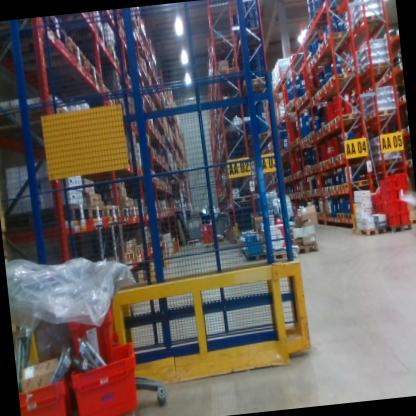pallet: (15, 30, 90, 86), (6, 197, 93, 235), (0, 14, 70, 61), (39, 58, 106, 98), (123, 155, 142, 259), (217, 124, 273, 154), (77, 21, 112, 58), (211, 59, 240, 91), (237, 71, 271, 97), (271, 239, 300, 269), (208, 30, 239, 58), (100, 35, 121, 76), (319, 25, 351, 50), (352, 13, 386, 35), (331, 109, 363, 132), (361, 56, 394, 78), (225, 189, 265, 207), (340, 173, 374, 194), (235, 22, 261, 49), (326, 70, 358, 90), (108, 248, 135, 271), (393, 59, 406, 106), (240, 249, 273, 267), (319, 79, 351, 96), (308, 48, 341, 64), (373, 153, 404, 170), (365, 105, 395, 122), (296, 238, 322, 257), (379, 217, 412, 231), (359, 220, 386, 237), (313, 42, 343, 57), (311, 4, 336, 22), (305, 57, 332, 72), (304, 18, 335, 31), (102, 201, 122, 221), (86, 203, 105, 223), (133, 198, 149, 220), (199, 239, 221, 254), (183, 235, 203, 250), (125, 197, 138, 220), (211, 231, 229, 247), (276, 75, 294, 89), (119, 201, 132, 219), (397, 158, 412, 173), (132, 275, 148, 288), (287, 139, 301, 153), (298, 163, 309, 178), (331, 180, 342, 194), (131, 268, 145, 279), (312, 87, 322, 102), (322, 154, 332, 168), (308, 93, 317, 108), (282, 98, 292, 111), (336, 152, 349, 162), (318, 122, 326, 138), (324, 119, 333, 133), (398, 127, 409, 138), (303, 86, 311, 101), (343, 211, 355, 221), (319, 184, 329, 195), (328, 154, 338, 165), (326, 181, 334, 194), (335, 209, 345, 219), (305, 163, 313, 175), (146, 238, 154, 250), (292, 94, 301, 104), (408, 215, 416, 226), (313, 129, 320, 141), (311, 163, 320, 172), (282, 143, 290, 153), (390, 50, 400, 58), (299, 92, 305, 105), (309, 134, 317, 143), (323, 210, 331, 219), (314, 186, 323, 194), (393, 57, 401, 66), (308, 128, 315, 138), (299, 135, 306, 145), (299, 140, 306, 150), (293, 101, 300, 111), (317, 209, 324, 219), (287, 100, 293, 111), (330, 210, 337, 219), (293, 170, 300, 179), (299, 186, 306, 195), (318, 160, 324, 170), (282, 108, 289, 116), (305, 138, 311, 147), (291, 98, 297, 107), (304, 133, 310, 141), (295, 135, 301, 143), (309, 187, 316, 193), (279, 147, 285, 154), (305, 186, 309, 195), (297, 187, 301, 195), (295, 190, 298, 196)
small_load_carrier: (66, 339, 149, 416), (57, 287, 117, 359), (17, 363, 80, 416), (366, 191, 386, 221), (376, 172, 397, 189), (378, 186, 396, 202), (383, 213, 399, 230), (398, 211, 411, 229), (382, 200, 398, 214), (396, 184, 409, 201), (397, 168, 408, 185), (398, 200, 409, 212), (199, 229, 209, 238), (210, 232, 219, 242), (198, 223, 209, 230), (202, 237, 210, 246), (208, 229, 218, 234), (208, 223, 215, 230)
